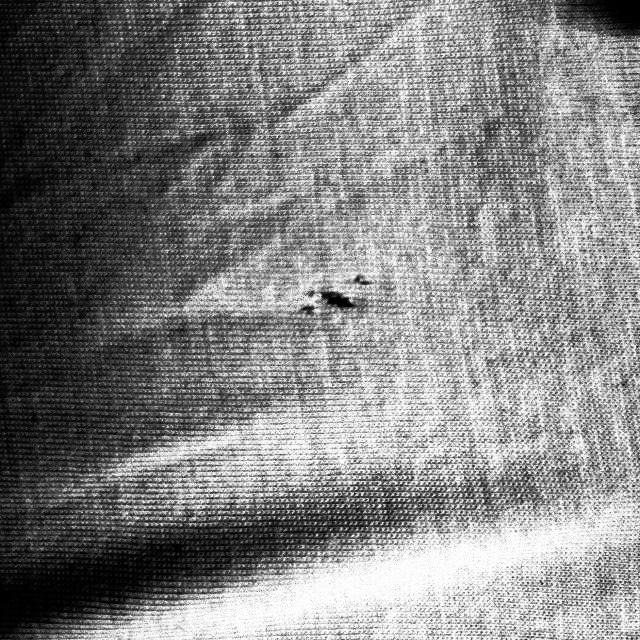Hole: (310, 266, 368, 323)
